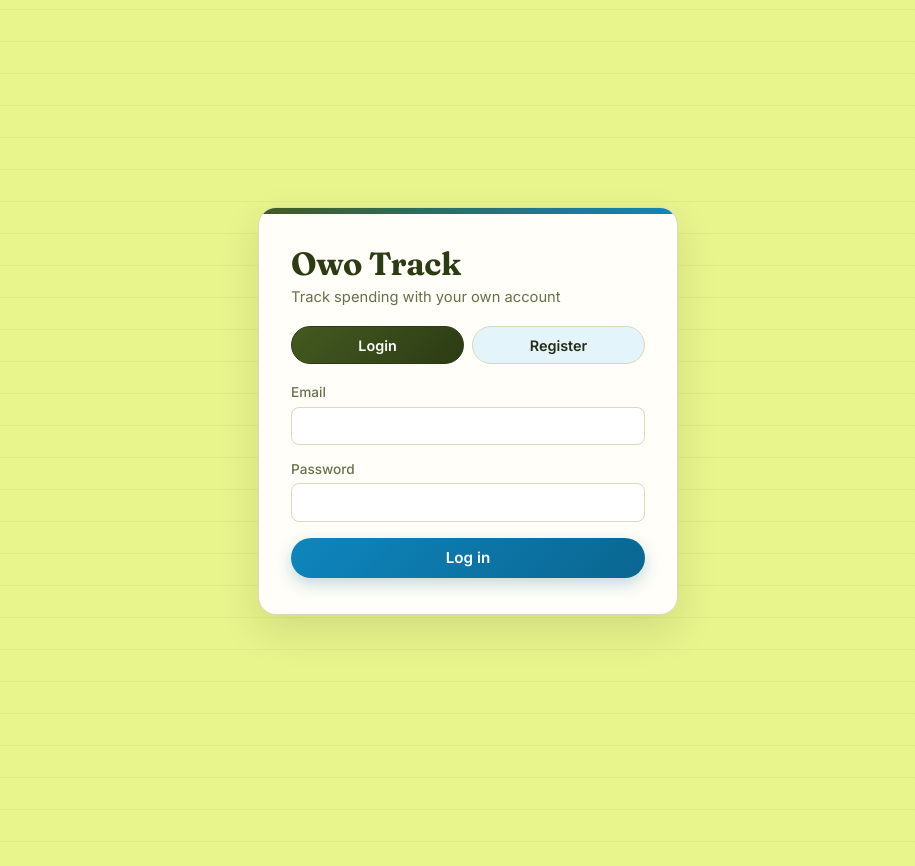
Test: App auth flow › logs in successfully and shows the dashboard with the user's name
Check: the heading "Owo Track" is shown, box [291,244,461,283]
Type "ada@owo.com" into the field labelled "Email" at (468, 426), box [291,406,645,445]
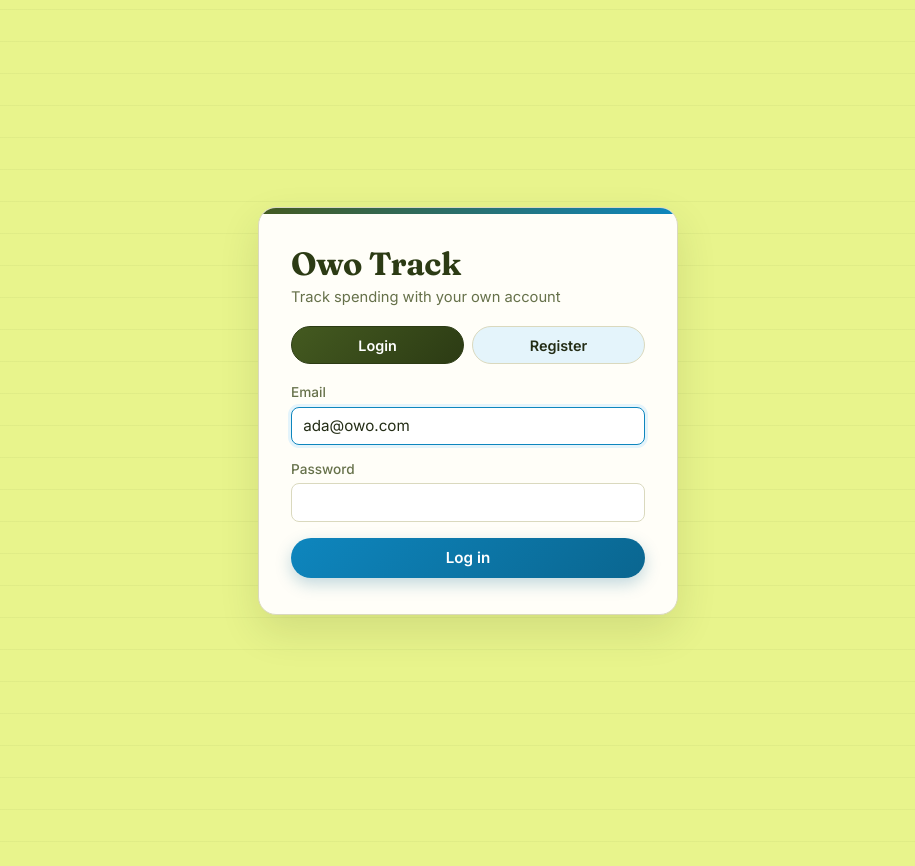
Type "password123" into the password field labelled "Password" at (468, 503), box [291,484,645,522]
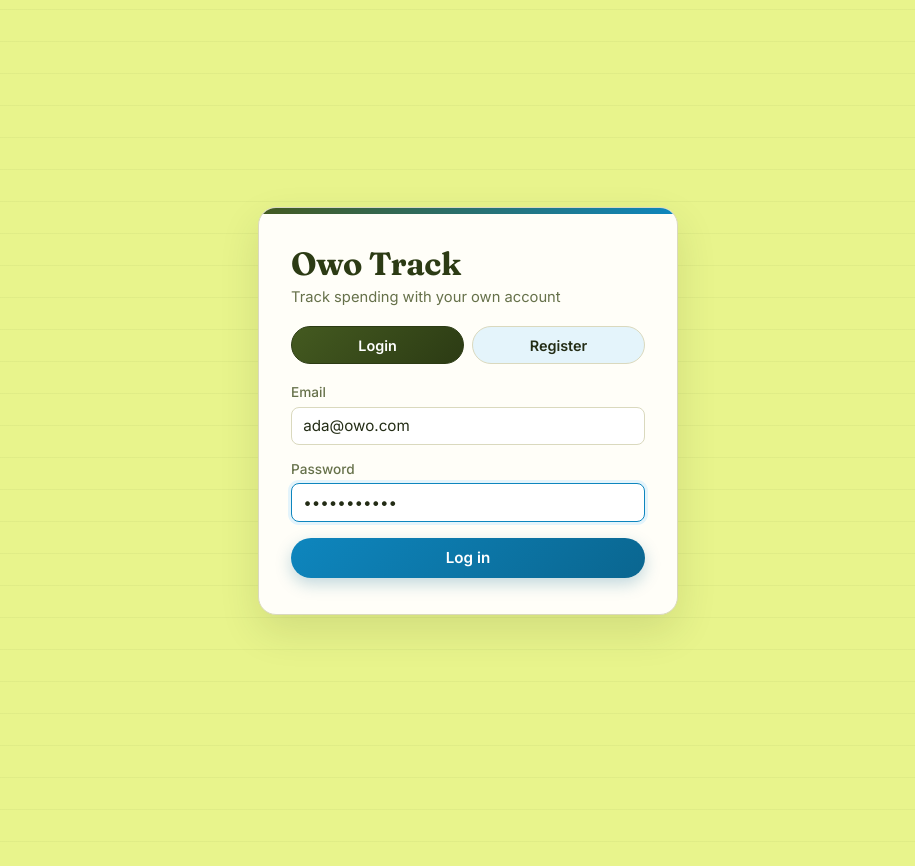
Click the button "Log in" at (468, 558), box [291,538,645,578]
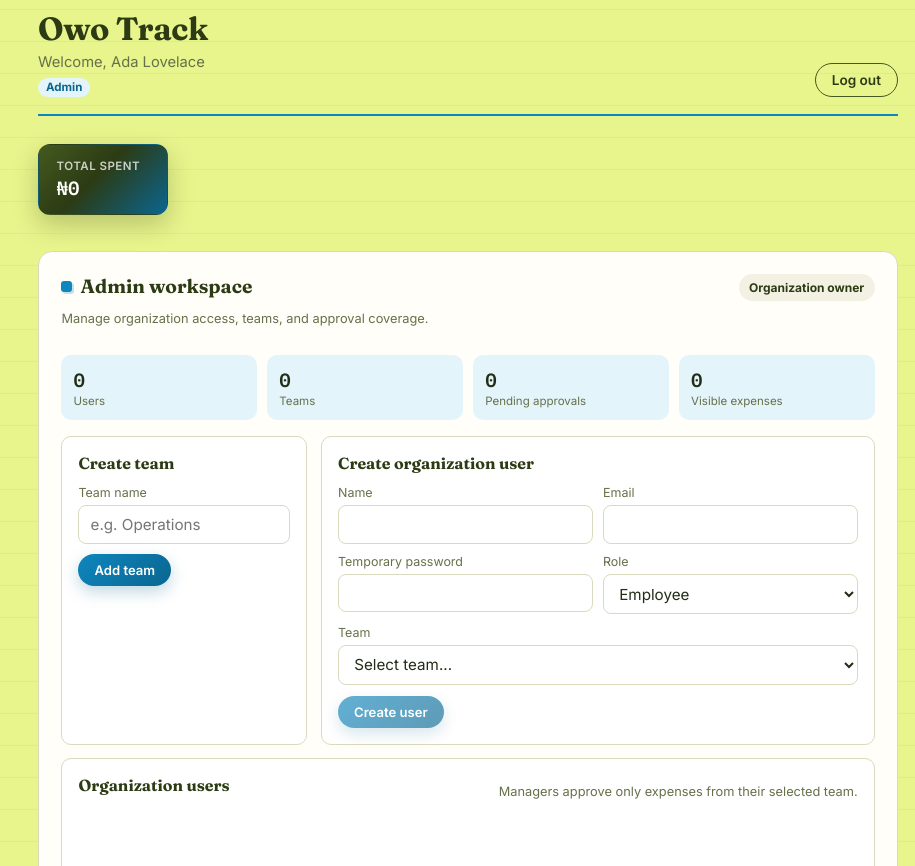
Check: the text "Welcome, Ada Lovelace" is shown, box [38,53,208,71]
